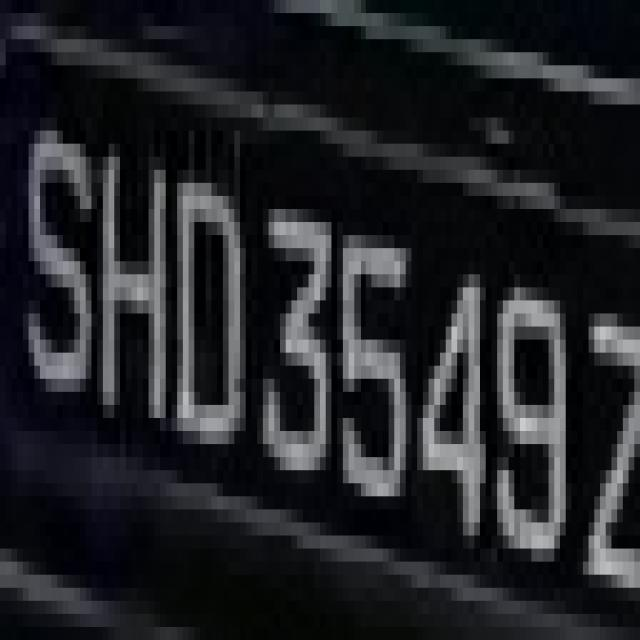3: (251, 130, 343, 510)
4: (417, 196, 497, 548)
5: (343, 143, 411, 588)
9: (492, 209, 572, 575)
D: (166, 105, 246, 457)
H: (97, 91, 172, 431)
S: (11, 65, 103, 457)
Z: (583, 235, 640, 627)
